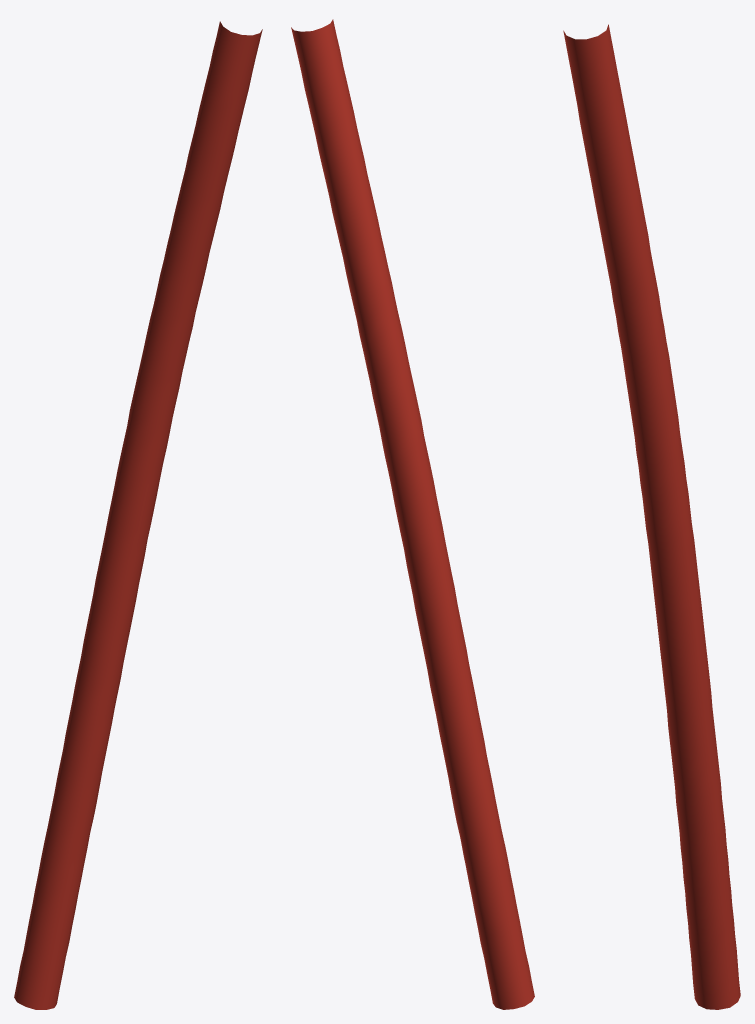
The model's file is ulnar_artery_right.glb.
The picture shows the model from 3 angles, left to right: view 1: azimuth 30°, elevation 25°; view 2: azimuth 210°, elevation 25°; view 3: azimuth 270°, elevation 25°; orthographic projection. The views are drawn at different scales.
Size of the model in its own units: 0.0403 by 0.2116 by 0.0324.
